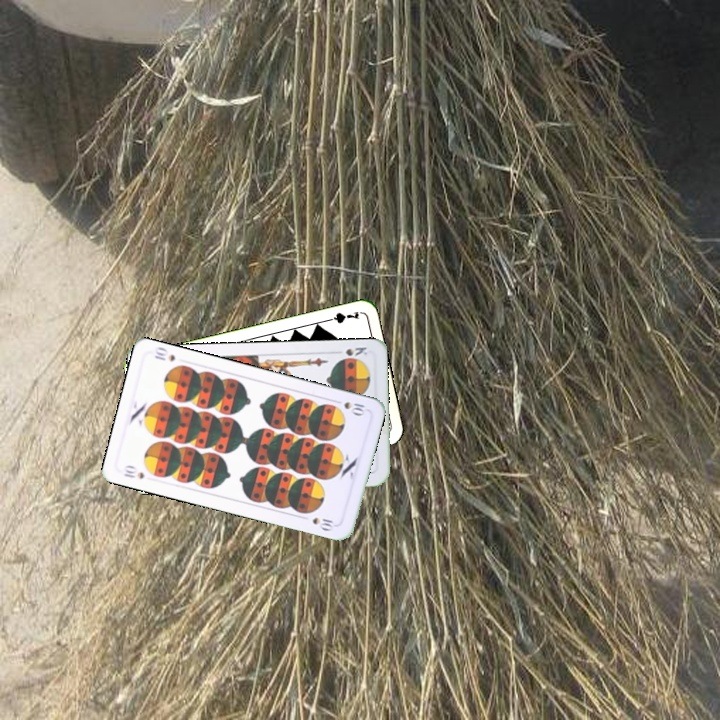G7: (321, 307, 362, 326)
S10: (330, 396, 368, 418), (120, 461, 146, 481)
SK: (330, 343, 370, 359)
